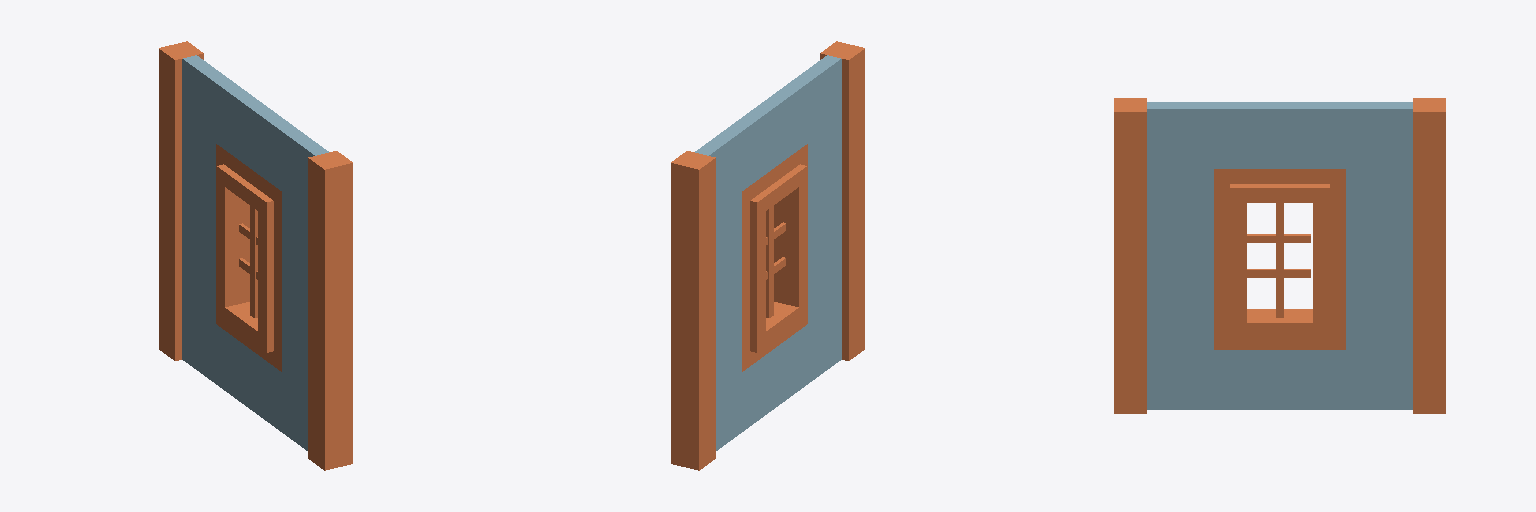
File: wallWindowGlass.obj
The picture shows the model from 3 angles: view 1: azimuth 30°, elevation 25°; view 2: azimuth 150°, elevation 25°; view 3: azimuth 270°, elevation 25°; orthographic projection.
Visible parts, largest first — view 1: wallWindowGlass, detail; view 2: wallWindowGlass, detail; view 3: wallWindowGlass, detail.
Part boxes in pixels (x1,y1,x2,y2): wallWindowGlass: (159,41,352,470); detail: (239,206,257,317); wallWindowGlass: (671,41,864,470); detail: (766,206,785,317); wallWindowGlass: (1114,98,1445,413); detail: (1247,203,1310,317).
Size of the model in its own units: 0.1 by 1 by 1.